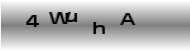4: (25, 14, 39, 27)
A: (119, 12, 136, 25)
W: (46, 10, 69, 24)
h: (91, 20, 105, 34)
u: (65, 11, 77, 22)
